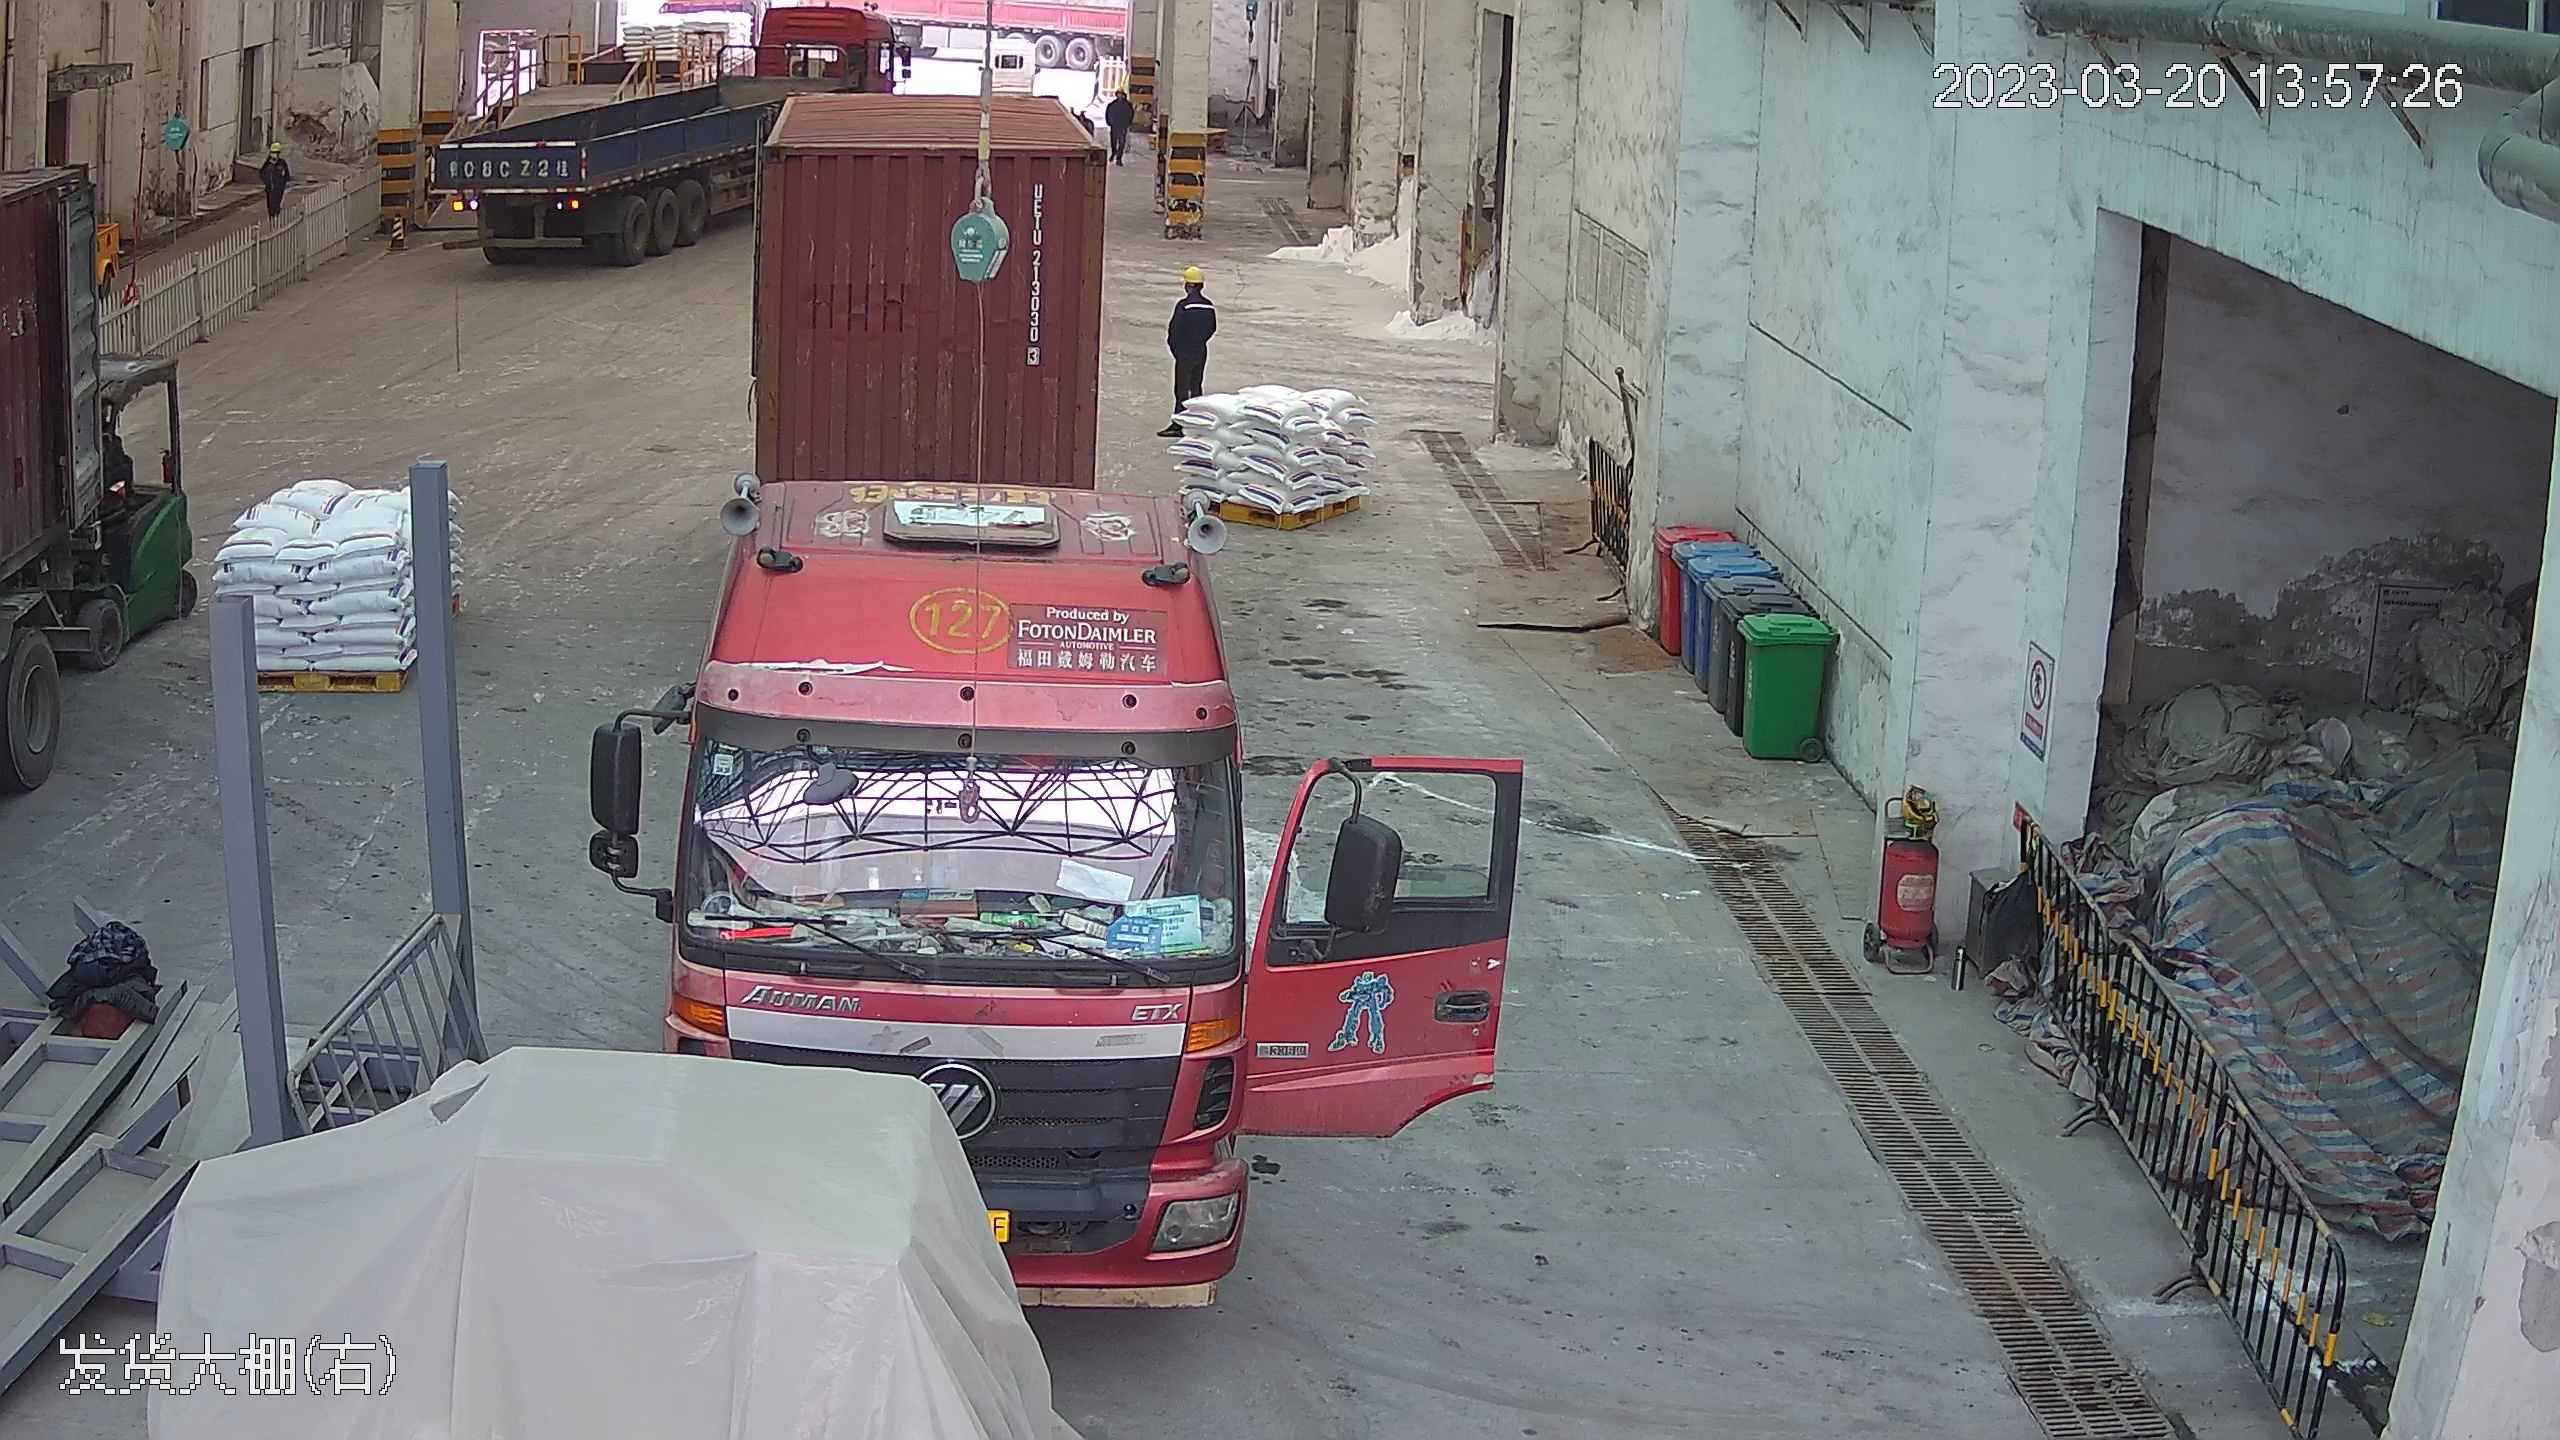head: (1170, 262, 1217, 320), (261, 136, 294, 174), (1107, 83, 1131, 112)
helmet: (1181, 261, 1207, 281), (268, 141, 281, 153), (1114, 85, 1125, 95)
people: (1161, 259, 1220, 426), (256, 132, 296, 234), (1105, 82, 1137, 167)
truck: (645, 17, 1275, 1269)
